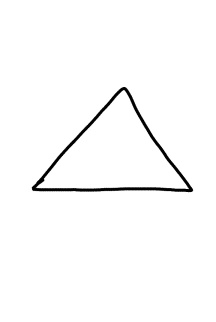Triangle: (29, 85, 196, 196)
